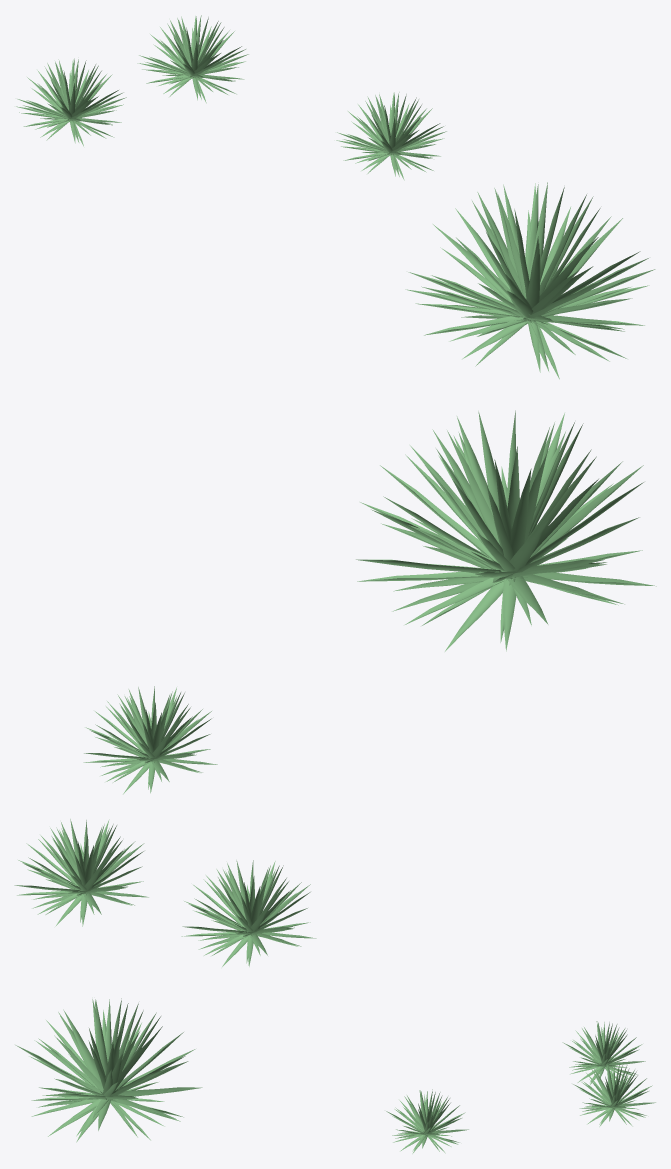
File: plants.obj
3 views of the same model, one above another, from view 1: azimuth 30°, elevation 25°; view 2: azimuth 150°, elevation 25°; view 3: azimuth 270°, elevation 25° (orthographic). The views are drawn at different scales.
Parts seen in each view (by area): view 1: Spike_plant_1_Plane.000, Spike_plant_1_Plane.004, Spike_plant_1_Plane.003, Spike_plant_1_Plane.002; view 2: Spike_plant_1_Plane.000, Spike_plant_1_Plane.004, Spike_plant_1_Plane.003, Spike_plant_1_Plane.002; view 3: Spike_plant_1_Plane.000, Spike_plant_1_Plane.003, Spike_plant_1_Plane.002, Spike_plant_1_Plane.004.
Boxes of the visible parts, x1,y1,x2,y2 form: Spike_plant_1_Plane.000: [405, 182, 655, 379]; Spike_plant_1_Plane.004: [16, 58, 126, 146]; Spike_plant_1_Plane.003: [137, 15, 248, 103]; Spike_plant_1_Plane.002: [336, 92, 446, 180]; Spike_plant_1_Plane.000: [356, 410, 656, 651]; Spike_plant_1_Plane.004: [181, 860, 316, 966]; Spike_plant_1_Plane.003: [14, 819, 148, 926]; Spike_plant_1_Plane.002: [83, 686, 217, 794]; Spike_plant_1_Plane.000: [15, 998, 202, 1142]; Spike_plant_1_Plane.003: [573, 1063, 655, 1126]; Spike_plant_1_Plane.002: [386, 1089, 468, 1153]; Spike_plant_1_Plane.004: [562, 1021, 645, 1084].
Bounding box in the file's own units: 9.56 × 4.53 × 23.82.
